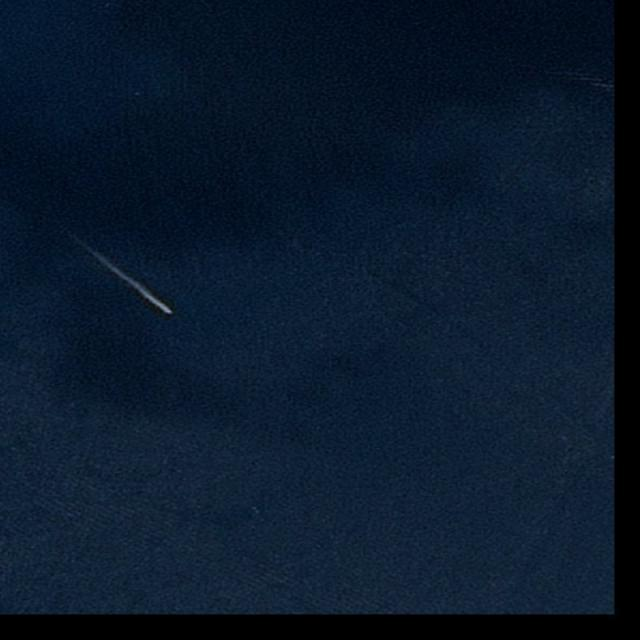ship: (164, 306, 176, 318)
